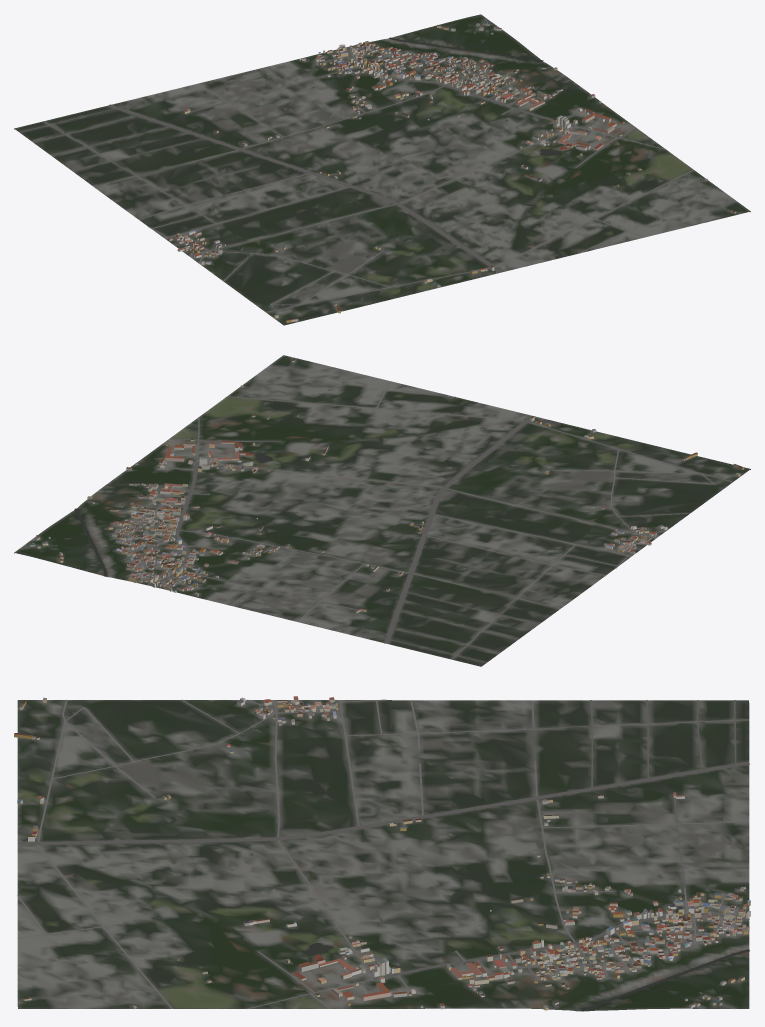
3 renders of one model, top to bottom at view 1: azimuth 30°, elevation 25°; view 2: azimuth 150°, elevation 25°; view 3: azimuth 270°, elevation 25°, orthographic. The views are drawn at different scales.
Parts seen in each view (by area): view 1: ground, buildings, roads; view 2: ground, buildings, roads; view 3: ground, buildings, roads, water.
Part boxes in pixels (bbox=[...]): ground: bbox=[14, 14, 750, 325]; buildings: bbox=[167, 21, 736, 322]; roads: bbox=[19, 18, 693, 312]; ground: bbox=[14, 355, 750, 666]; buildings: bbox=[29, 358, 743, 613]; roads: bbox=[19, 381, 732, 662]; ground: bbox=[17, 700, 749, 1011]; buildings: bbox=[14, 696, 750, 1010]; roads: bbox=[17, 699, 749, 1009]; water: bbox=[300, 943, 749, 1011].
Size of the model in its own units: 1414 by 34.44 by 1412.
